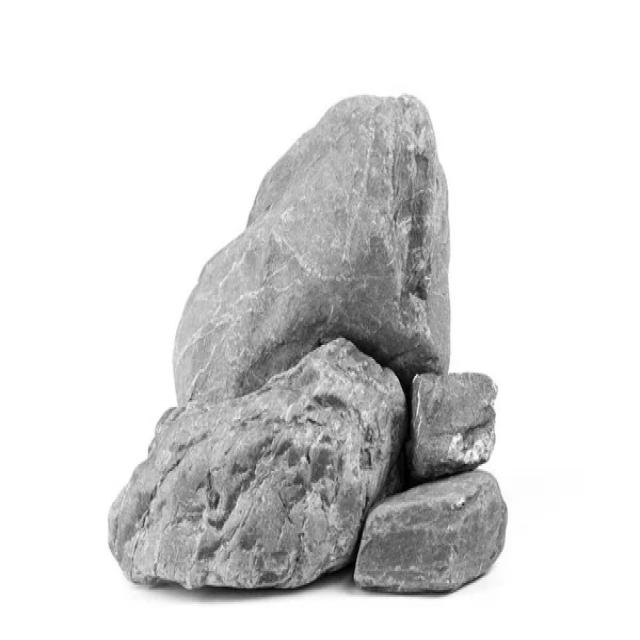Stone: (174, 95, 451, 404), (109, 338, 407, 589), (355, 471, 509, 593), (409, 372, 498, 480)
